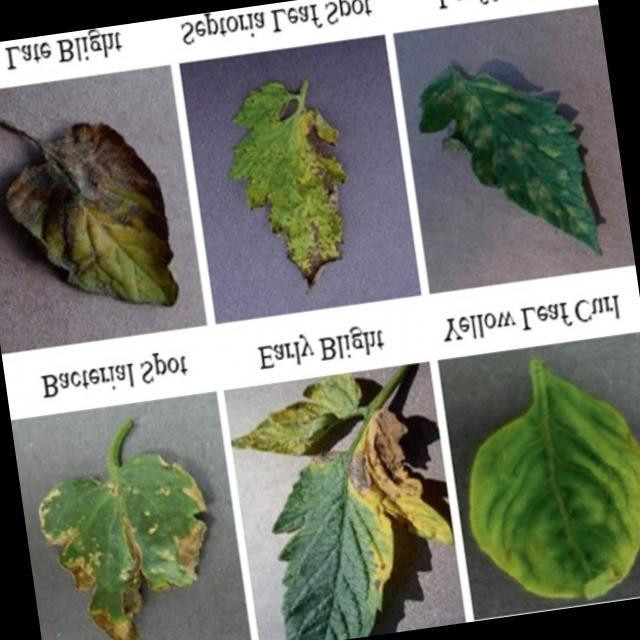Mosaic Virus: (437, 30, 602, 277)
Septoria: (223, 62, 367, 302)
Yellow Curl Virus: (445, 344, 640, 614)
